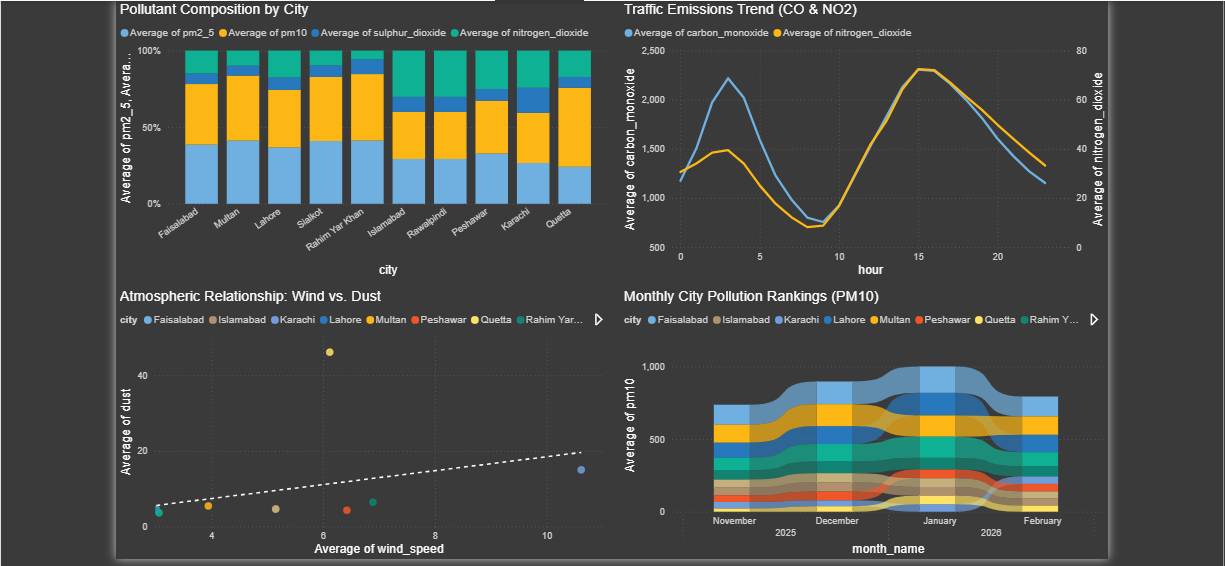

What the dashboard file says about the page in this screenshot:
{"tool":"powerbi","page":{"name":"Page 3","canvas":[1280,720],"ordinal":2},"visuals":[{"type":"hundredPercentStackedColumnChart","title":"Pollutant Composition by City","fields":{"Category":["advisor_airqualityrecord.city"],"Y":["Avg(advisor_airqualityrecord.pm2_5)","Avg(advisor_airqualityrecord.pm10)","Avg(advisor_airqualityrecord.sulphur_dioxide)","Avg(advisor_airqualityrecord.nitrogen_dioxide)"]},"box":[0,0,640,360],"z":0},{"type":"scatterChart","title":"Atmospheric Relationship: Wind vs. Dust","fields":{"X":["Avg(advisor_airqualityrecord.wind_speed)"],"Y":["Avg(advisor_airqualityrecord.dust)"],"Category":["advisor_airqualityrecord.city"]},"box":[0,370,640,350],"z":1000},{"type":"lineChart","title":"Traffic Emissions Trend (CO & NO2)","fields":{"Category":["advisor_airqualityrecord.hour"],"Y":["Avg(advisor_airqualityrecord.carbon_monoxide)"],"Y2":["Avg(advisor_airqualityrecord.nitrogen_dioxide)"]},"box":[650,0,630,360],"z":2000},{"type":"ribbonChart","title":"Monthly City Pollution Rankings (PM10)","fields":{"Y":["Avg(advisor_airqualityrecord.pm10)"],"Series":["advisor_airqualityrecord.city"],"Category":["advisor_airqualityrecord.year","advisor_airqualityrecord.month_name"]},"box":[650,370,630,350],"z":3000}]}

Visuals, with their boxes on the page's 1280x720 design canvas (x1, y1, x2, y2). These are canvas units, not pixel positions in the 1225x566 screenshot, which may show the page scaled, cropped or inside an application window:
"Pollutant Composition by City" hundredPercentStackedColumnChart: select_region(0, 0, 640, 360)
"Atmospheric Relationship: Wind vs. Dust" scatterChart: select_region(0, 370, 640, 720)
"Traffic Emissions Trend (CO & NO2)" lineChart: select_region(650, 0, 1280, 360)
"Monthly City Pollution Rankings (PM10)" ribbonChart: select_region(650, 370, 1280, 720)
